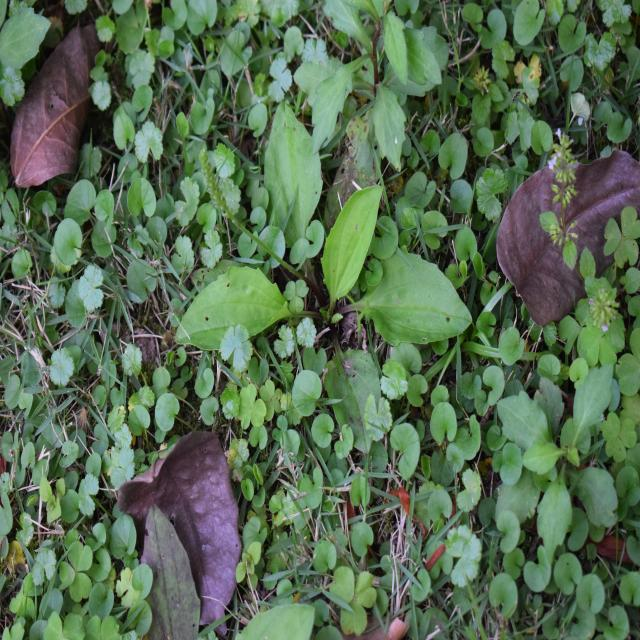plantain: (187, 141, 456, 418)
